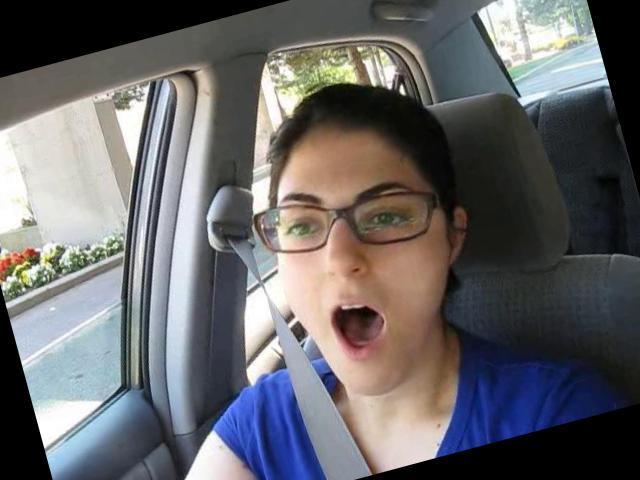eye_open: (354, 194, 424, 243), (276, 207, 332, 250)
face: (251, 143, 476, 418)
mouth_open: (316, 286, 398, 368)
